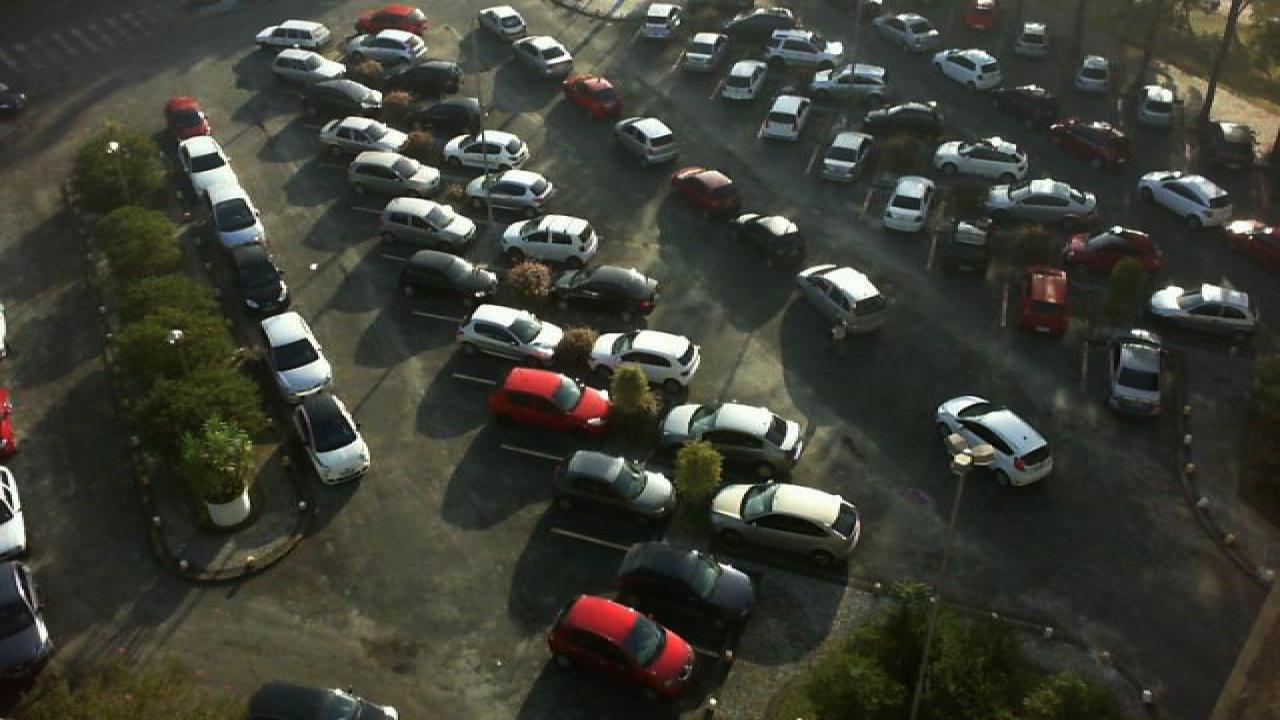Car: (548, 592, 698, 702), (608, 539, 760, 634), (710, 478, 862, 567), (658, 400, 806, 481), (934, 394, 1056, 487), (554, 446, 678, 526), (486, 364, 614, 438), (288, 390, 370, 485), (588, 327, 702, 395), (258, 308, 336, 398), (0, 554, 54, 684), (240, 678, 404, 720), (1144, 281, 1260, 340), (454, 302, 568, 361), (794, 262, 888, 333), (396, 246, 506, 304), (500, 211, 602, 269), (556, 264, 660, 320), (1062, 224, 1162, 281), (982, 176, 1100, 224), (1136, 169, 1232, 228), (376, 195, 482, 248), (1108, 327, 1168, 414), (932, 135, 1030, 187), (344, 148, 444, 197), (176, 134, 244, 206), (224, 242, 288, 313), (462, 166, 556, 214), (314, 112, 412, 158), (730, 210, 810, 266), (1048, 115, 1128, 169), (208, 184, 266, 254), (440, 127, 532, 171), (668, 164, 742, 218), (1018, 268, 1072, 338), (612, 114, 680, 166), (882, 173, 938, 236), (816, 129, 876, 187), (862, 98, 948, 138), (1224, 217, 1280, 277), (298, 76, 386, 114), (268, 47, 350, 87), (930, 46, 1004, 90), (810, 61, 888, 102), (410, 93, 484, 135), (560, 73, 624, 119), (508, 32, 574, 76), (868, 11, 938, 52), (758, 93, 812, 146), (1200, 116, 1252, 171), (764, 26, 836, 64), (352, 29, 428, 64), (252, 18, 332, 51), (394, 58, 460, 98), (162, 94, 214, 142), (714, 58, 768, 102), (354, 3, 430, 34), (1132, 82, 1180, 131), (722, 5, 810, 31), (474, 4, 530, 40), (640, 2, 684, 44), (684, 28, 724, 73), (1070, 53, 1110, 94), (1012, 20, 1052, 58), (956, 0, 998, 32)
